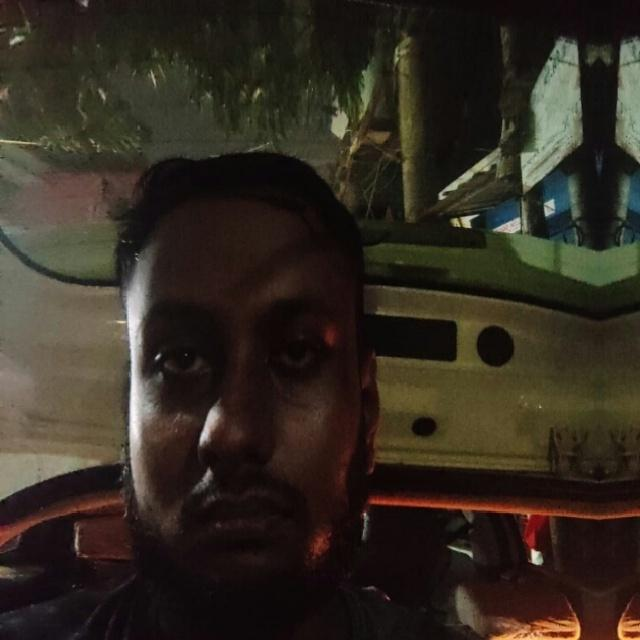Sad: (115, 182, 385, 605)
